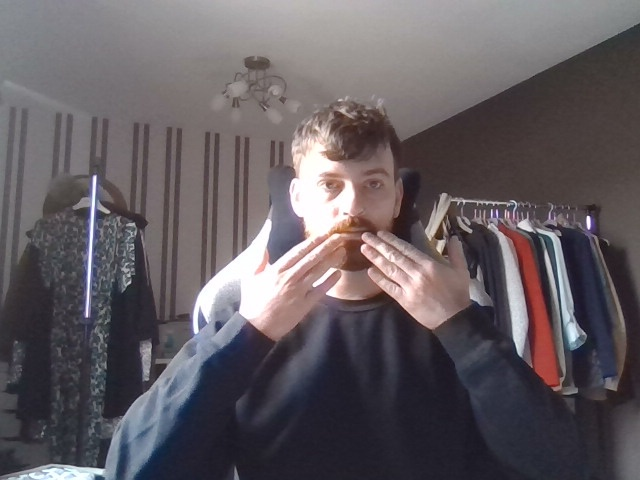Thanks: (236, 201, 476, 353)
